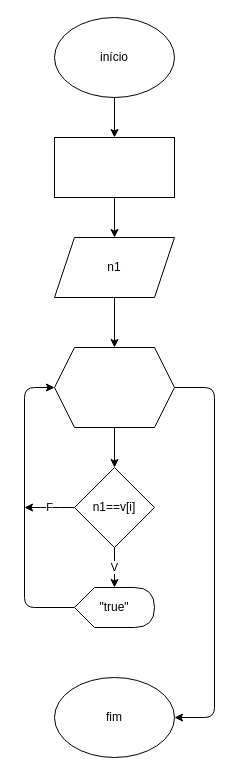
This 240x775 diagram has some shape labels left out. The shapes that lost their labels are listed below. From the top down, each one's centre as x and y in pixels, then its label:
the point at 114,167: v[] = {45,-89,32-12,33}
the point at 114,387: i,0,4,1
